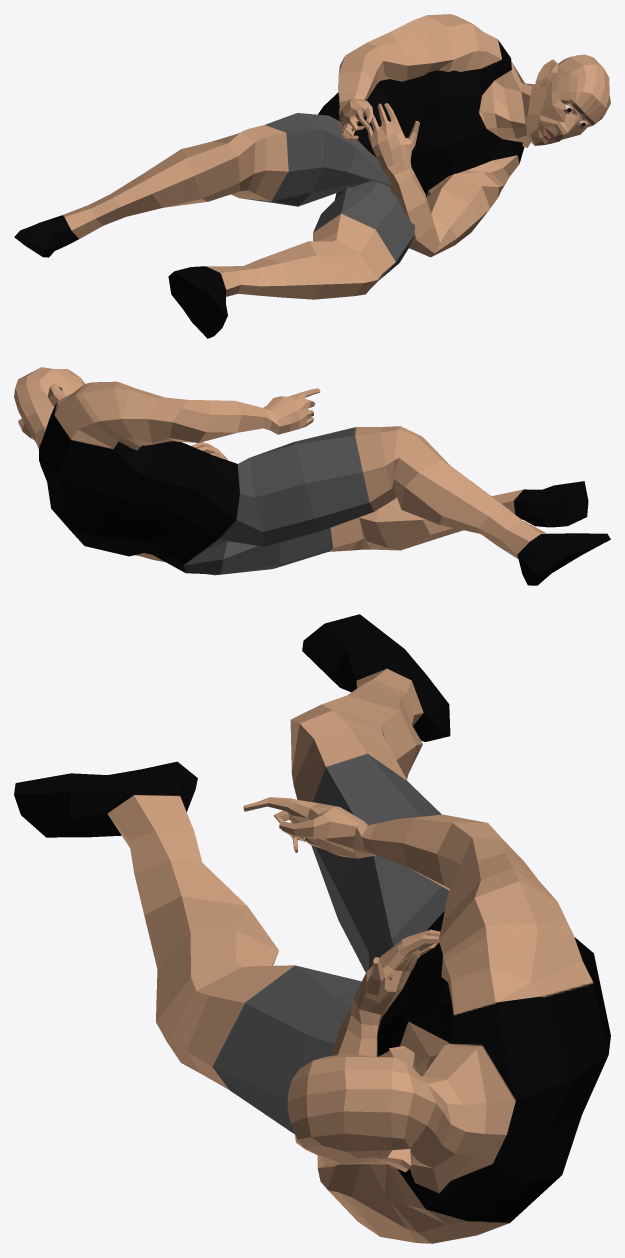
File: PlayerDead(49).obj
The picture shows the model from 3 angles, top to bottom: view 1: azimuth 30°, elevation 25°; view 2: azimuth 150°, elevation 25°; view 3: azimuth 270°, elevation 25°; orthographic projection. The views are drawn at different scales.
Visible parts, largest first — view 1: Plane002; view 2: Plane002; view 3: Plane002.
Part boxes in pixels (x1,y1,x2,y2): Plane002: (14,14,610,338); Plane002: (14,367,610,585); Plane002: (14,614,610,1243).
Bounding box in the file's own units: 1763 × 561 × 841.
